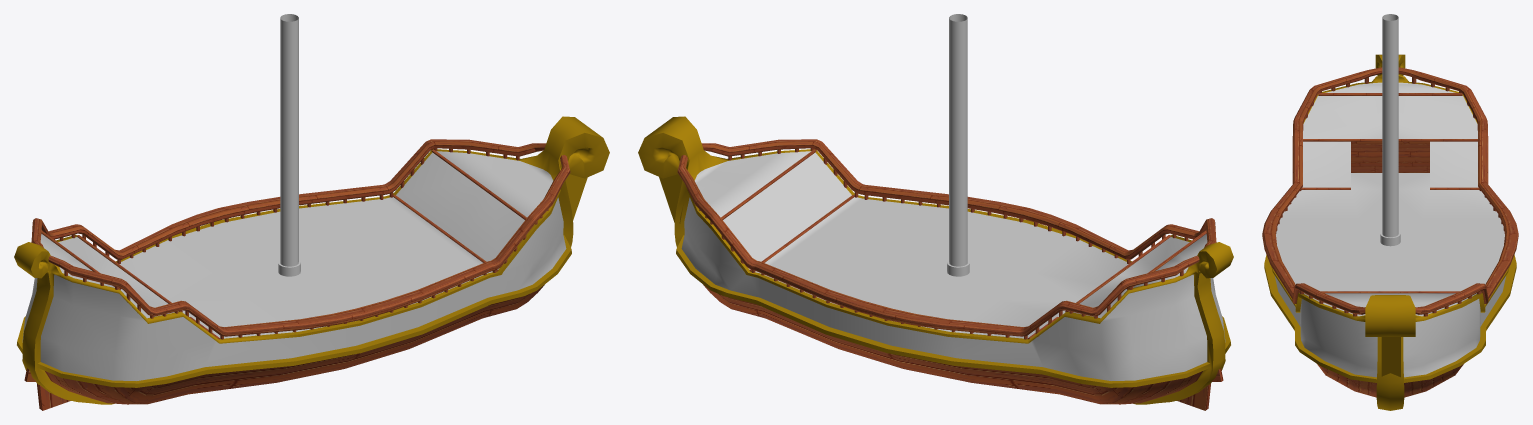
File: boat.fbx
3 views of the same model, side by side, from view 1: azimuth 30°, elevation 25°; view 2: azimuth 150°, elevation 25°; view 3: azimuth 270°, elevation 25° (orthographic). The views are drawn at different scales.
Visible parts, largest first — view 1: boat; view 2: boat; view 3: boat.
Part boxes in pixels (x1,y1,x2,y2): boat: [14, 14, 609, 410]; boat: [638, 14, 1233, 410]; boat: [1262, 14, 1518, 410].
Bounding box in the file's own units: 65.92 × 37.33 × 28.87.
